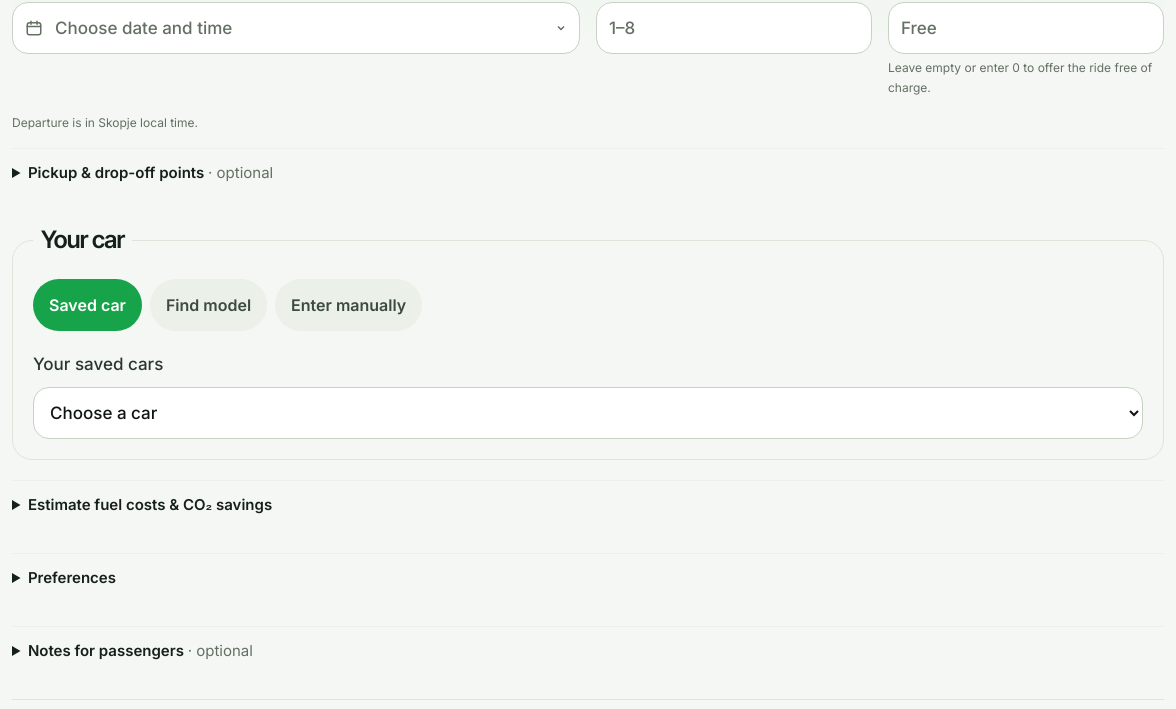
Test case: ride car selection › lets a driver choose between saved cars without entering vehicle details
(page scrolled)
Select "Volkswagen Polo · Blue · •••123" in the dropdown labelled "Your saved cars": (588, 412) x1=33 y1=386 x2=1143 y2=438
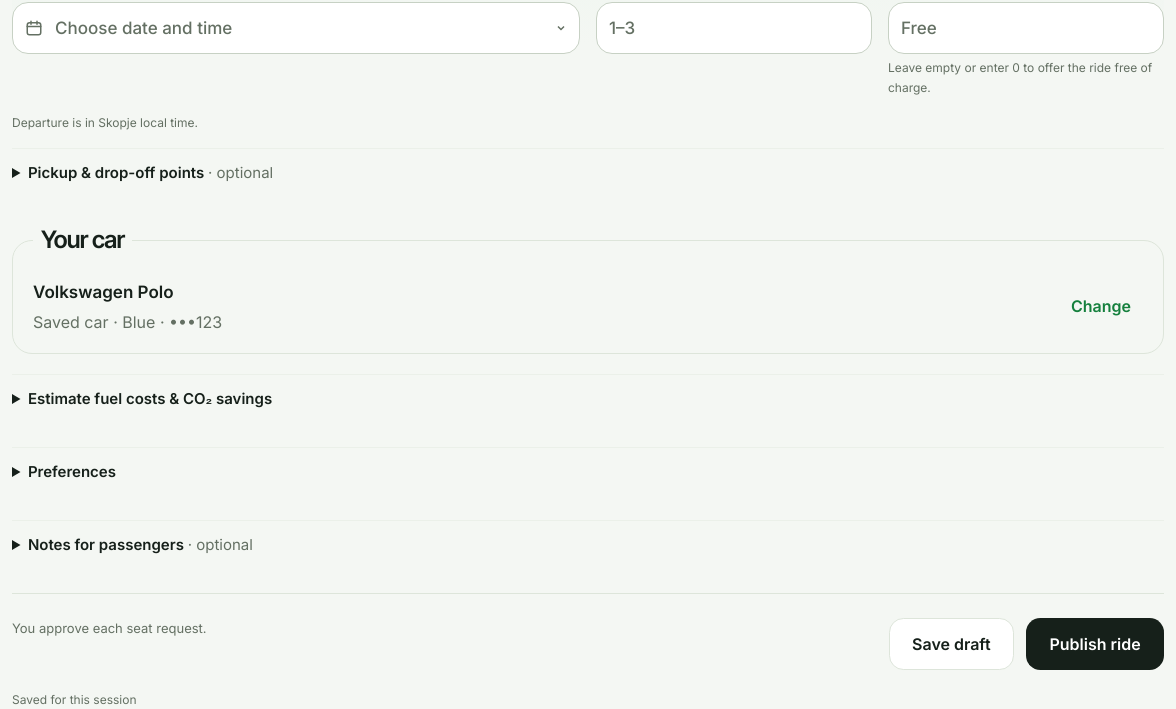
Check: the number field labelled "Available seats" is empty, box x1=596 y1=2 x2=872 y2=54
Check: the text "Volkswagen Polo" is shown, box x1=33 y1=282 x2=174 y2=302
Click the button "Change": (1101, 306) x1=1059 y1=280 x2=1143 y2=332
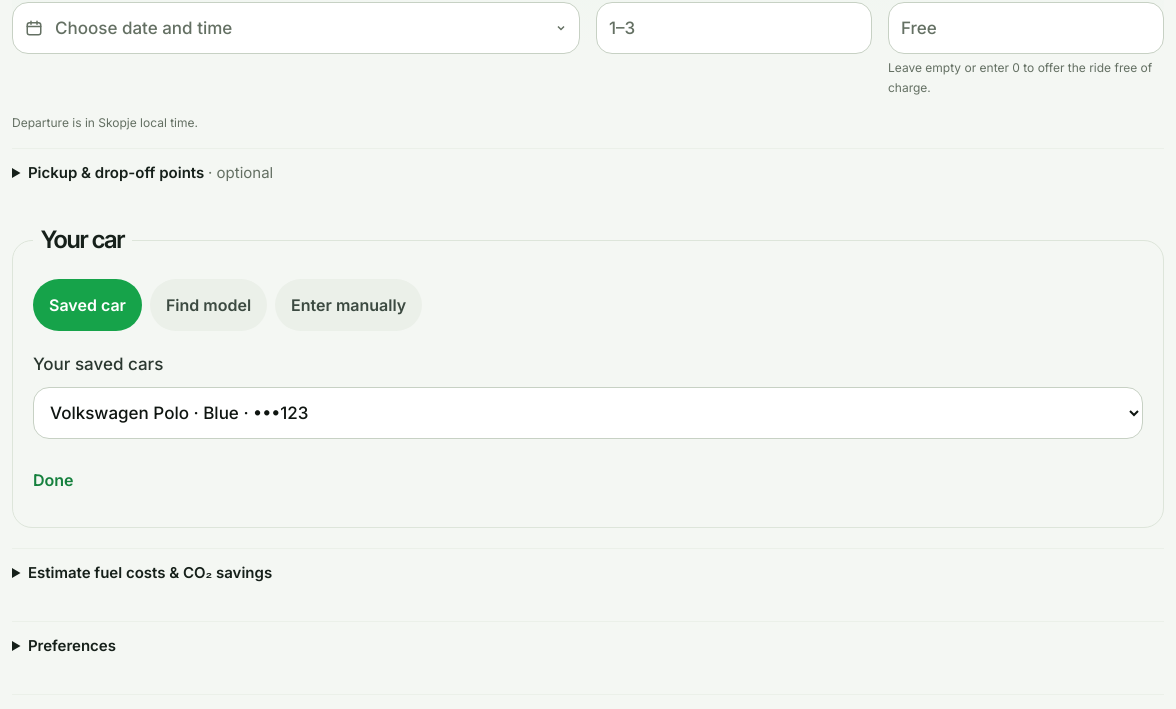
Check: the dropdown labelled "Your saved cars" shows "Volkswagen Polo · Blue · •••123", box x1=33 y1=386 x2=1143 y2=438
